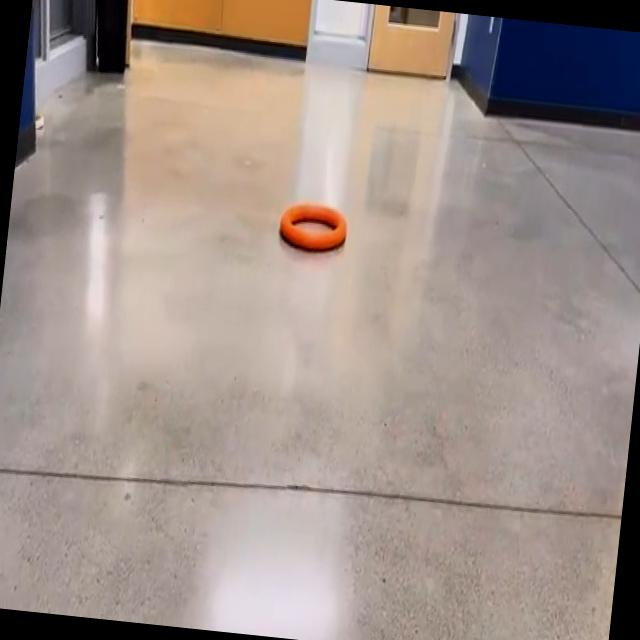note: (279, 202, 346, 250)
